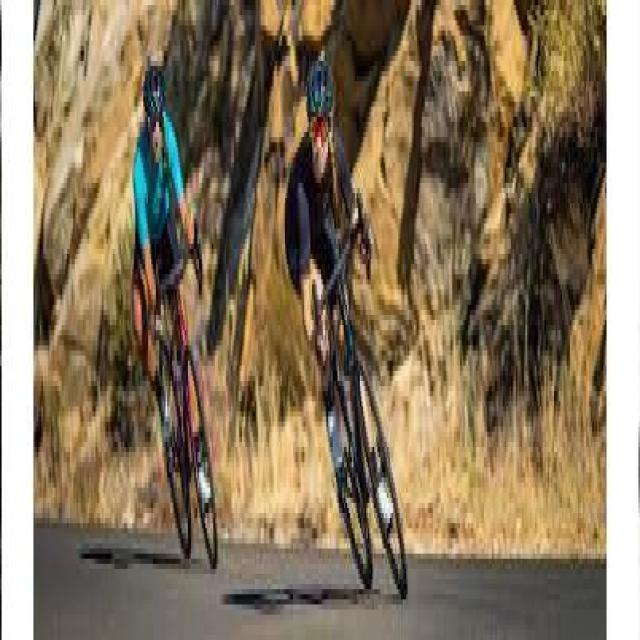bicycle: (302, 194, 411, 606), (140, 231, 220, 576)
